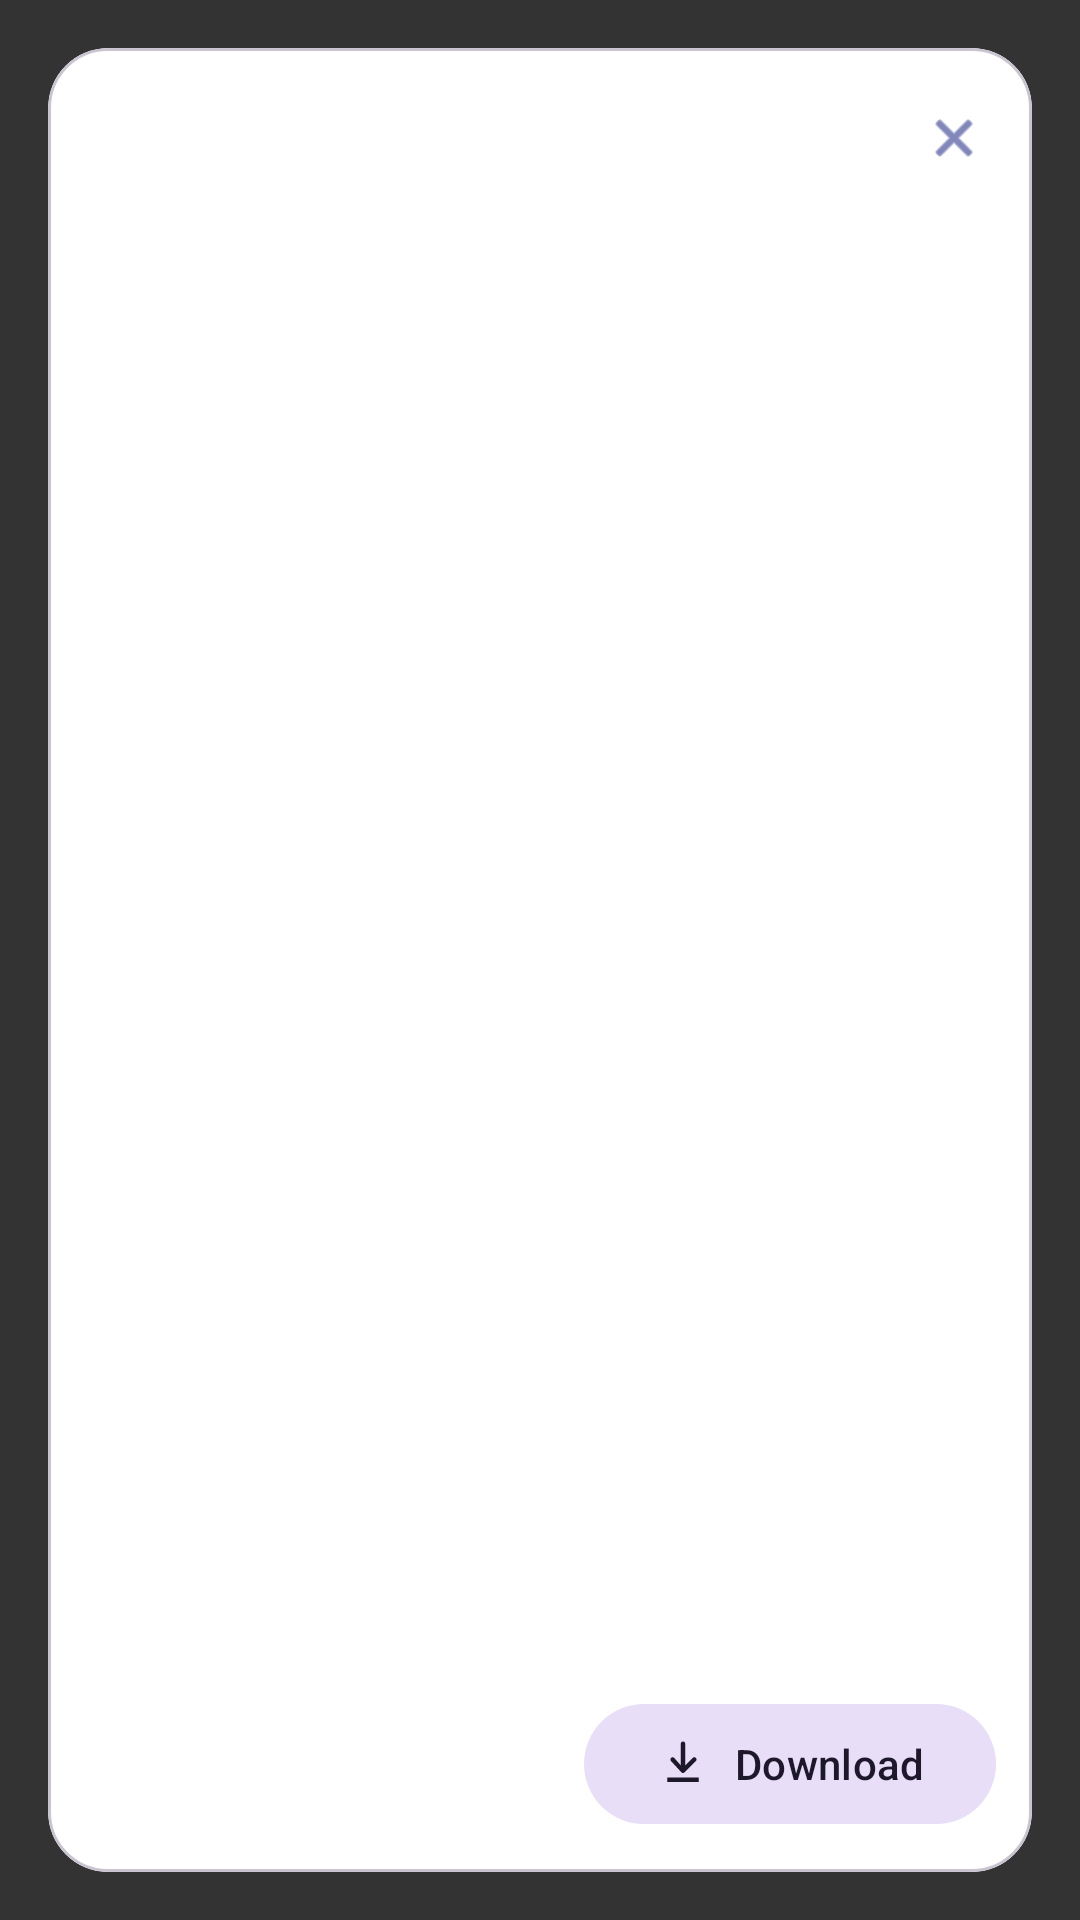

Icon bounding boxes for this 1080×1920 phone screenshot, format {"x1": x1, "y1": y1, "x2": x2, "y2": y2}:
Close: {"x1": 935, "y1": 119, "x2": 973, "y2": 157}
